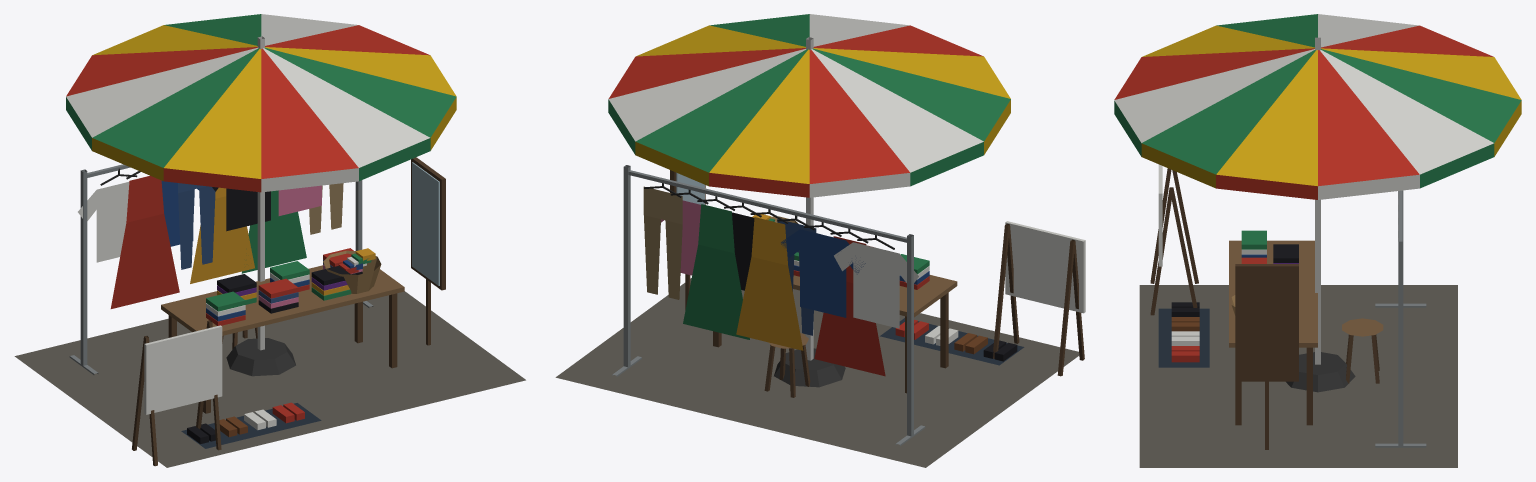
Rendered from ns_boutique.glb.
3 renders of one model, left to right at view 1: azimuth 30°, elevation 25°; view 2: azimuth 150°, elevation 25°; view 3: azimuth 270°, elevation 25°, orthographic. The views are drawn at different scales.
Visible parts, largest first — view 1: ns_boutique; view 2: ns_boutique; view 3: ns_boutique.
Boxes of the visible parts, box(x1,y1,x2,y2) form: ns_boutique: box(14, 14, 525, 467); ns_boutique: box(555, 14, 1085, 467); ns_boutique: box(1114, 14, 1521, 467).
Size of the model in its own units: 3.51 by 2.95 by 3.2.
